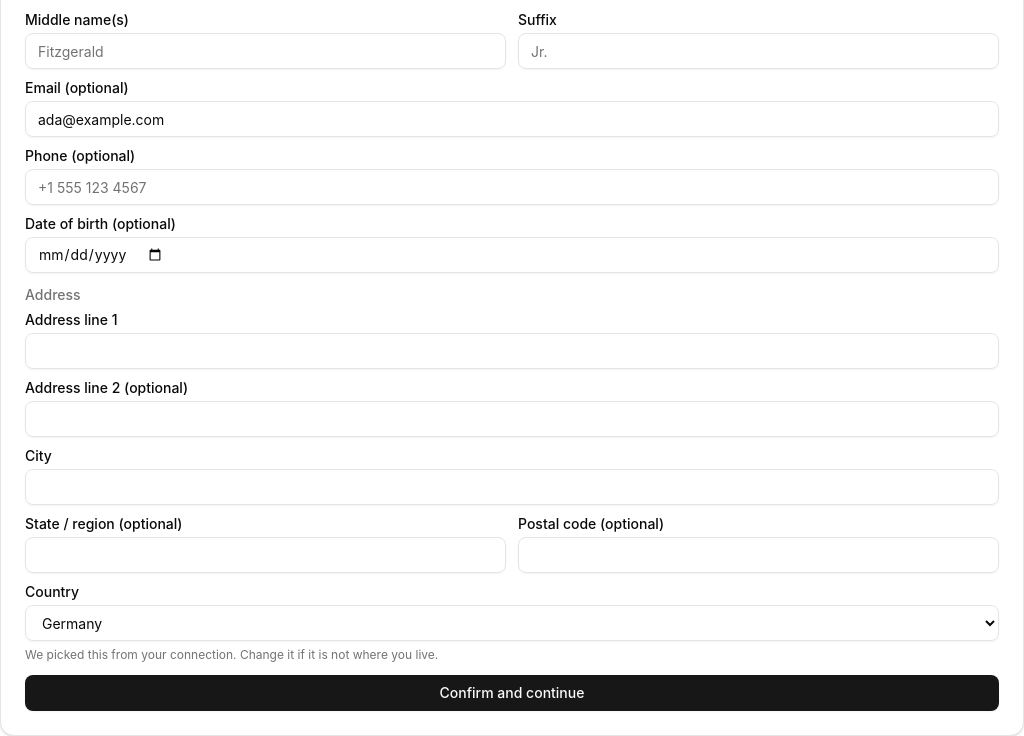
Test case: CheckInCollectForm › drops the note once the guest overrides the suggestion, and brings it back if they undo
(page scrolled)
Check: the text "We picked this from your connection" is shown, box [25, 647, 438, 662]
Select "FR" in the dropdown labelled "Country". click: (512, 623)
box: [25, 605, 999, 641]
(page scrolled)
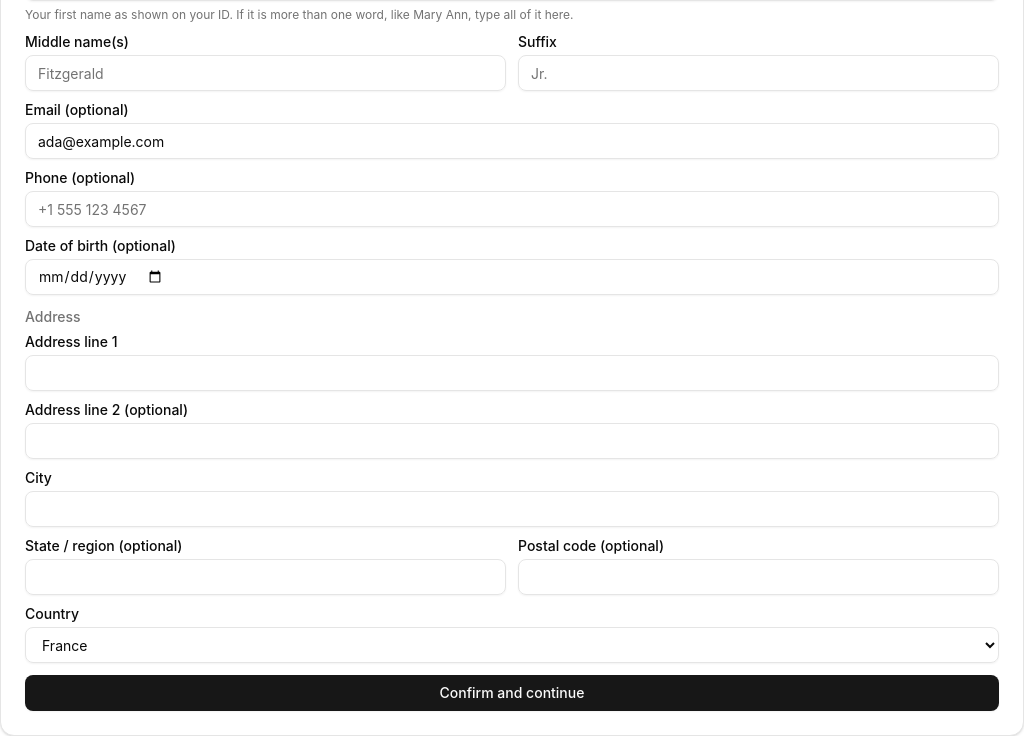
Check: the text "We picked this from your connection" is gone
Select "DE" in the dropdown labelled "Country". click: (512, 645)
box: [25, 627, 999, 663]
(page scrolled)
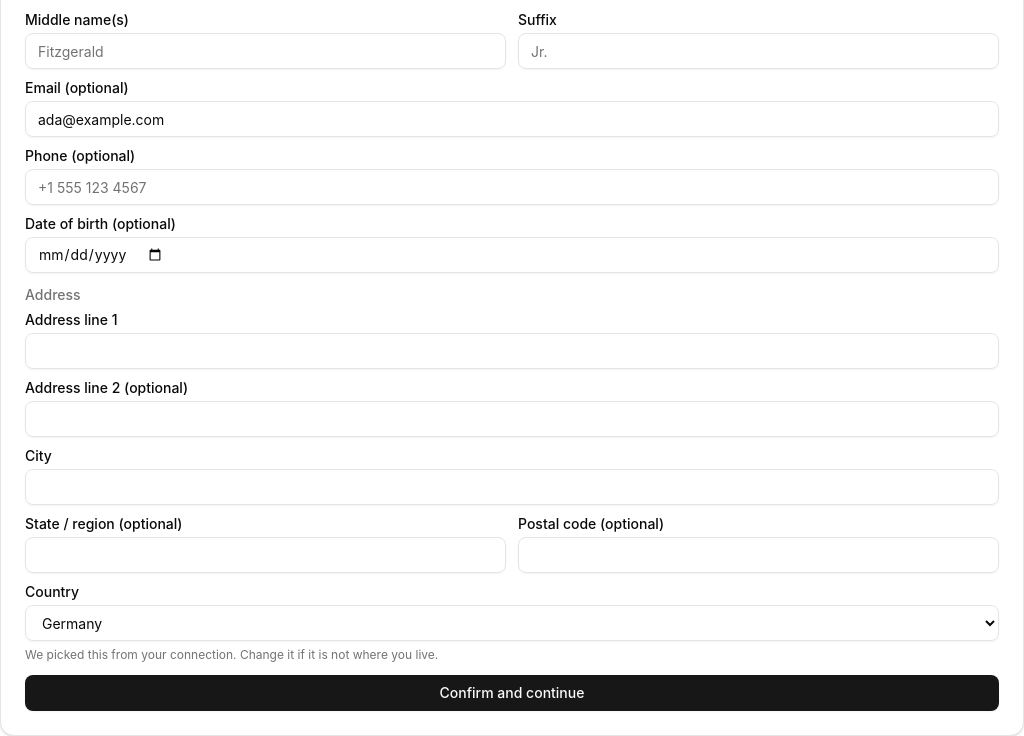
Check: the text "We picked this from your connection" is shown, box [25, 647, 438, 662]
